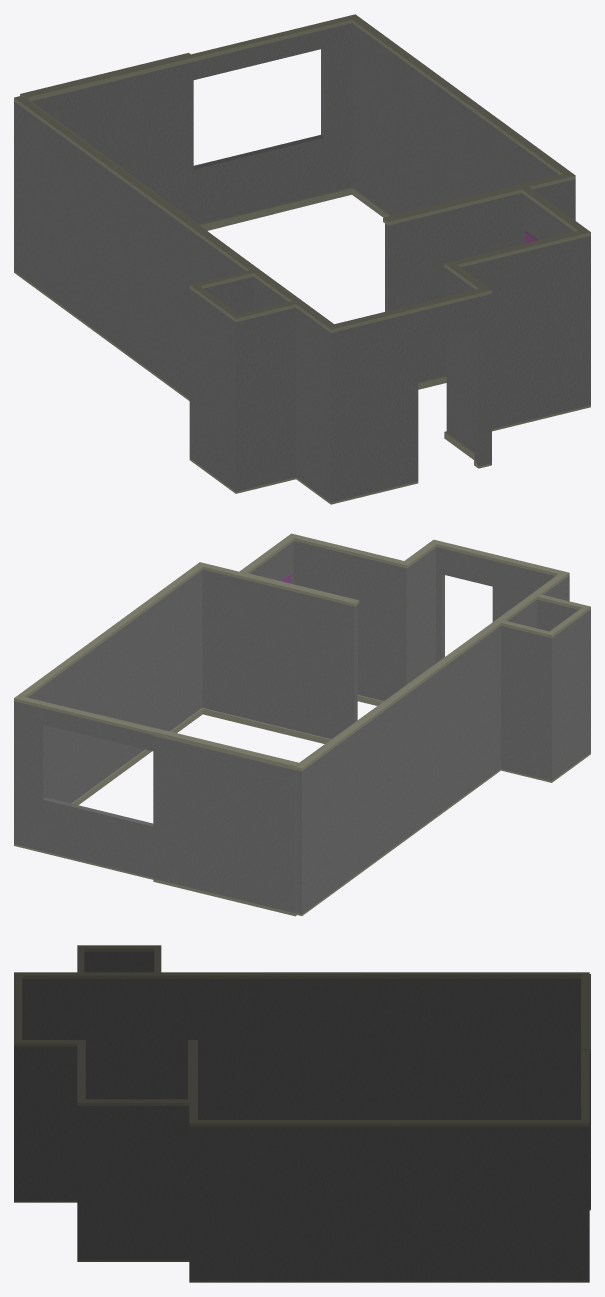
Rendered from FP311:StandardWallSize_009_e16a9393.obj.
3 renders of one model, top to bottom at view 1: azimuth 30°, elevation 25°; view 2: azimuth 150°, elevation 25°; view 3: azimuth 270°, elevation 25°, orthographic. The views are drawn at different scales.
Parts seen in each view (by area): view 1: FP311:StandardWallSize.009_e16a9393; view 2: FP311:StandardWallSize.009_e16a9393; view 3: FP311:StandardWallSize.009_e16a9393.
Part boxes in pixels (box(x1,y1,x2,y2)): FP311:StandardWallSize.009_e16a9393: box(14, 14, 590, 504); FP311:StandardWallSize.009_e16a9393: box(14, 533, 590, 916); FP311:StandardWallSize.009_e16a9393: box(14, 945, 590, 1282).
Size of the model in its own units: 6 by 2.54 by 8.22.
